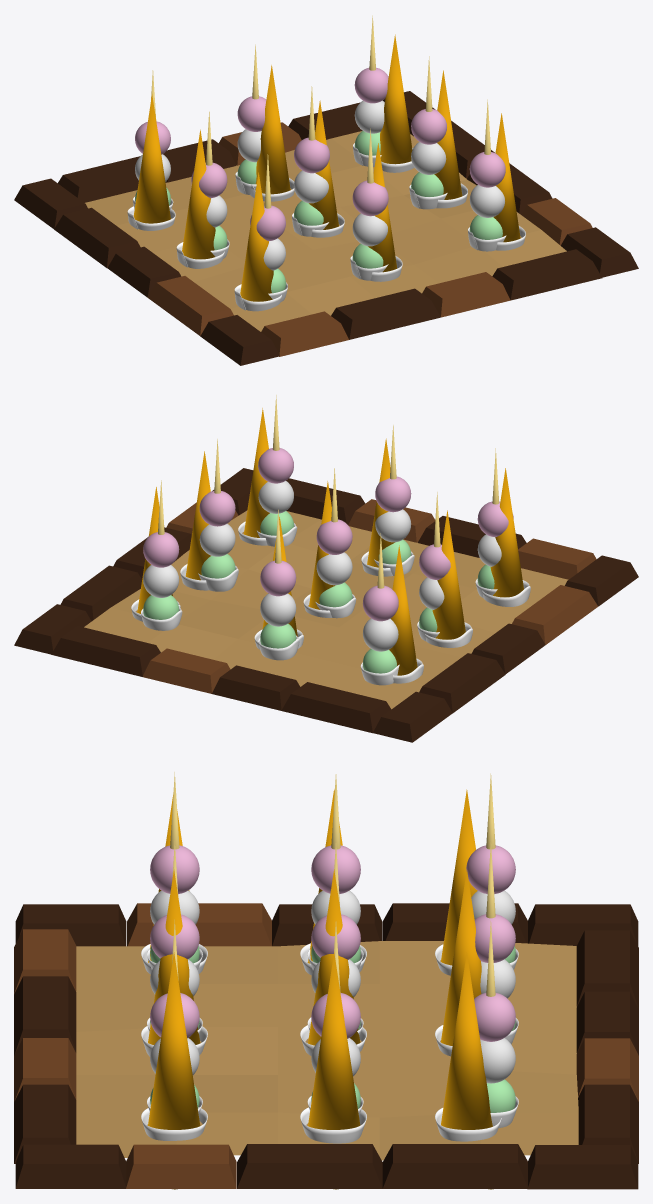
Rendered from 1.1_Armadilha.fbx.
3 renders of one model, top to bottom at view 1: azimuth 30°, elevation 25°; view 2: azimuth 150°, elevation 25°; view 3: azimuth 270°, elevation 25°, orthographic. The views are drawn at different scales.
Visible parts, largest first — view 1: Borda_Chocolate, Base_Chao, Dangos, Caramelo, Base_Papel.001, Base_Papel; view 2: Borda_Chocolate, Base_Chao, Dangos, Caramelo, Base_Papel, Base_Papel.001; view 3: Borda_Chocolate, Base_Chao, Dangos, Caramelo, Base_Papel.001, Base_Papel.
Boxes of the visible parts, x1=… form: Borda_Chocolate: x1=14, y1=91, x2=638, y2=365; Base_Chao: x1=85, y1=131, x2=566, y2=331; Dangos: x1=135, y1=15, x2=505, y2=293; Caramelo: x1=133, y1=34, x2=520, y2=301; Base_Papel.001: x1=127, y1=148, x2=525, y2=311; Base_Papel: x1=133, y1=143, x2=506, y2=301; Borda_Chocolate: x1=14, y1=468, x2=638, y2=742; Base_Chao: x1=84, y1=510, x2=568, y2=709; Dangos: x1=143, y1=395, x2=513, y2=673; Caramelo: x1=137, y1=408, x2=523, y2=675; Base_Papel: x1=141, y1=523, x2=497, y2=685; Base_Papel.001: x1=131, y1=521, x2=530, y2=683; Borda_Chocolate: x1=14, y1=903, x2=638, y2=1189; Base_Chao: x1=76, y1=941, x2=578, y2=1160; Dangos: x1=150, y1=772, x2=515, y2=1189; Caramelo: x1=148, y1=789, x2=492, y2=1129; Base_Papel.001: x1=141, y1=943, x2=501, y2=1143; Base_Papel: x1=147, y1=948, x2=518, y2=1127.
Bounding box in the file's own units: 671 × 313 × 662.
